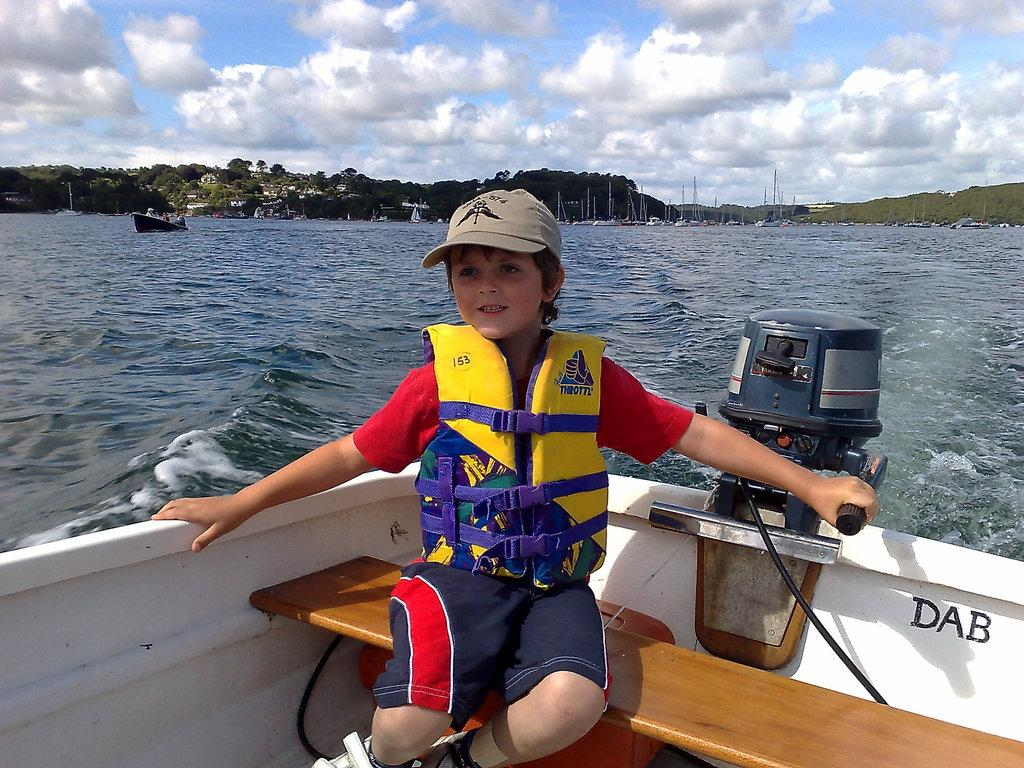Hat: (422, 186, 562, 266)
